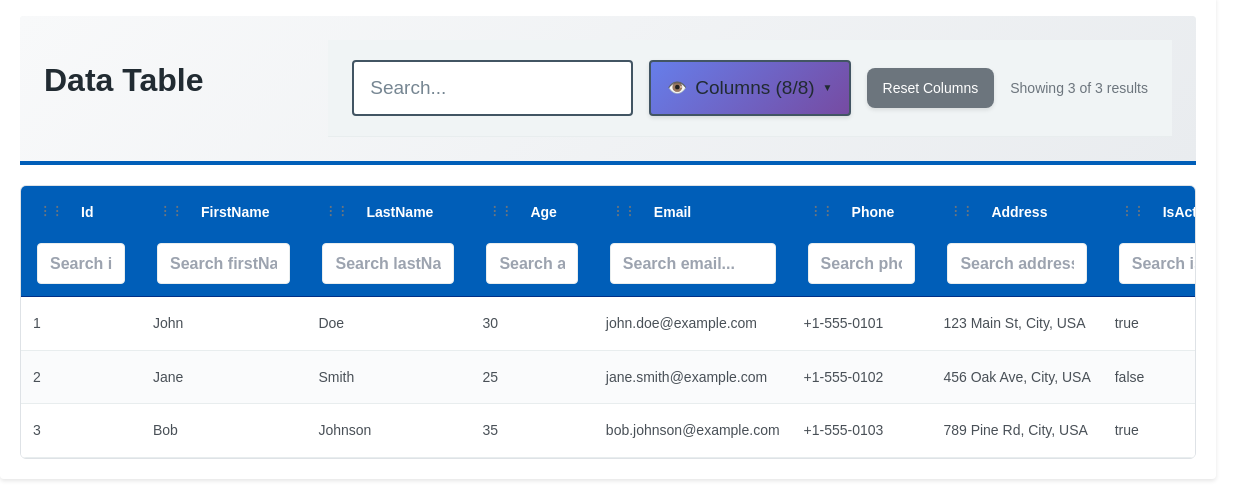
Test: DataTable Component › Column Filtering › filters data by column-specific search
Type "John" into the field with placeholder "Search firstName..." at (224, 263), box [157, 242, 290, 284]
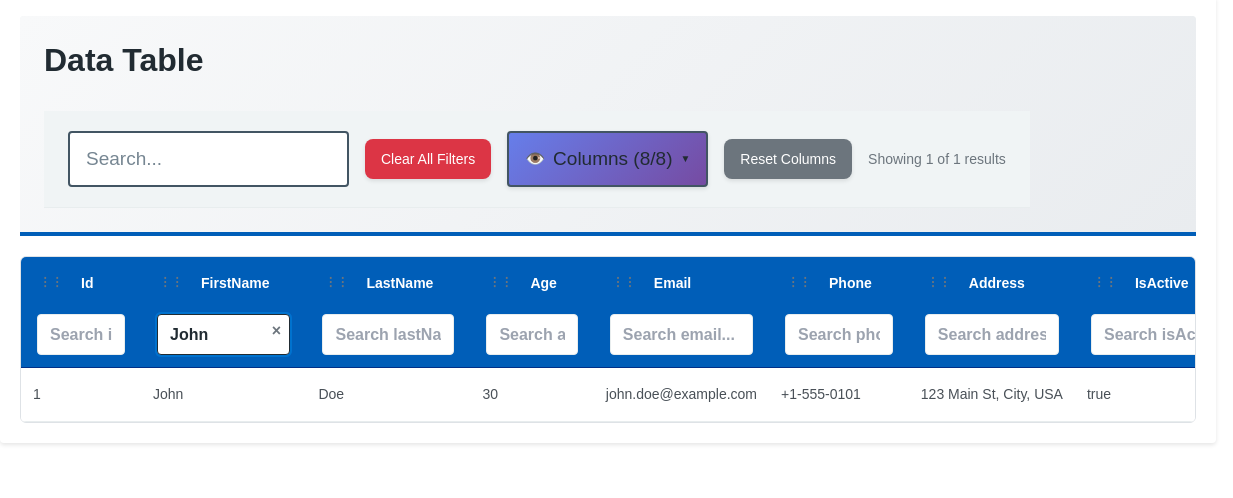
Expected: the text "John" is shown, [141, 368, 306, 421]
Expected: the text "Jane" is gone
